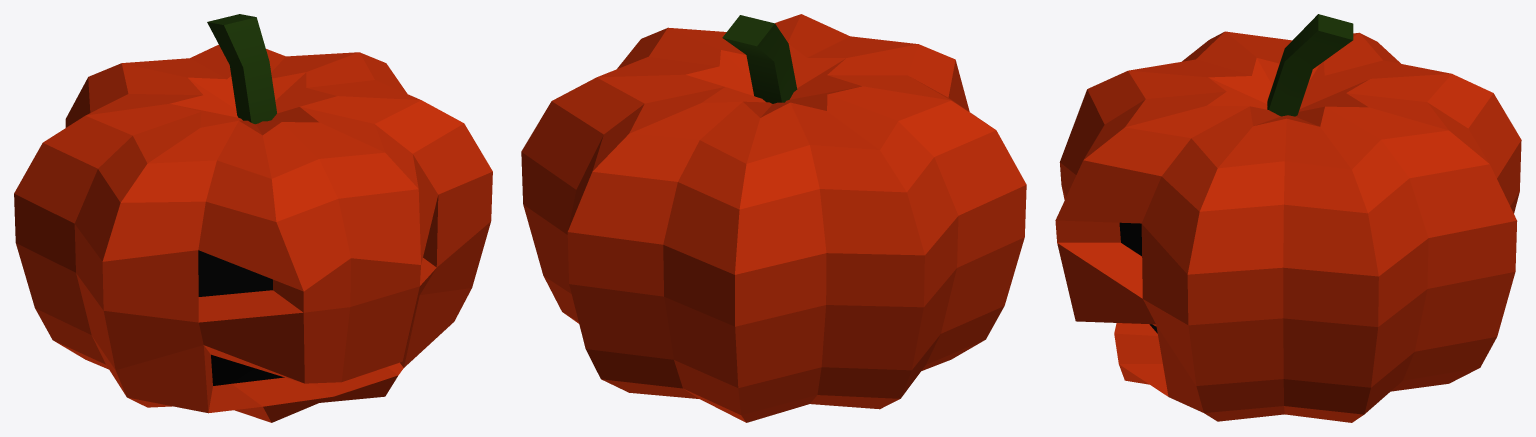
File: Pumpkin_2.FBX
The picture shows the model from 3 angles, left to right: view 1: azimuth 30°, elevation 25°; view 2: azimuth 150°, elevation 25°; view 3: azimuth 270°, elevation 25°; orthographic projection. The views are drawn at different scales.
Visible parts, largest first — view 1: Pumpkin2; view 2: Pumpkin2; view 3: Pumpkin2.
Boxes of the visible parts, left/top/right/bottom form: Pumpkin2: left=14, top=14, right=492, bottom=422; Pumpkin2: left=521, top=14, right=1026, bottom=422; Pumpkin2: left=1055, top=14, right=1521, bottom=422.
Bounding box in the file's own units: 7.87 × 6.54 × 7.87.
